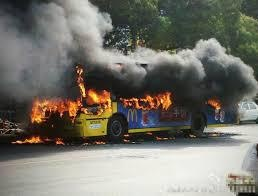fire: (30, 66, 115, 122), (119, 90, 173, 109), (206, 97, 221, 109)
